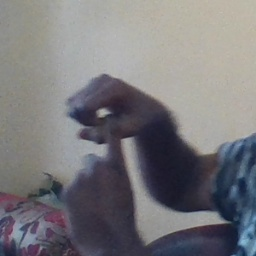Q: (59, 71, 153, 215)
